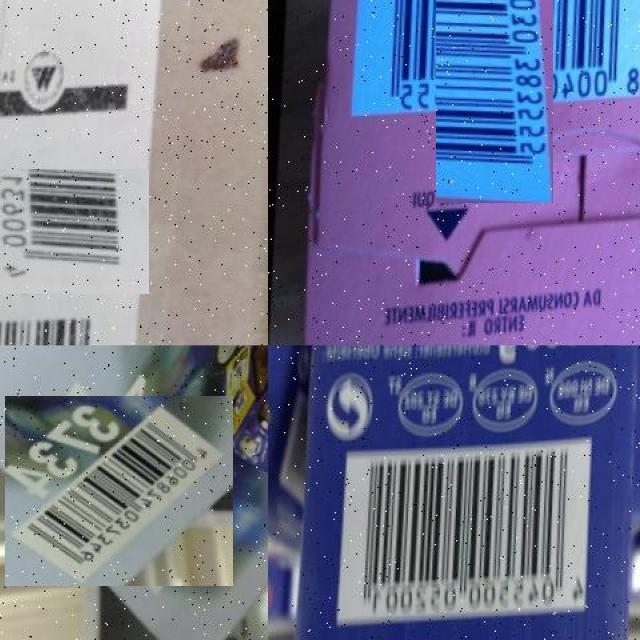Barcode: (337, 439, 596, 625), (15, 386, 224, 595), (393, 0, 596, 160), (0, 157, 137, 306)
